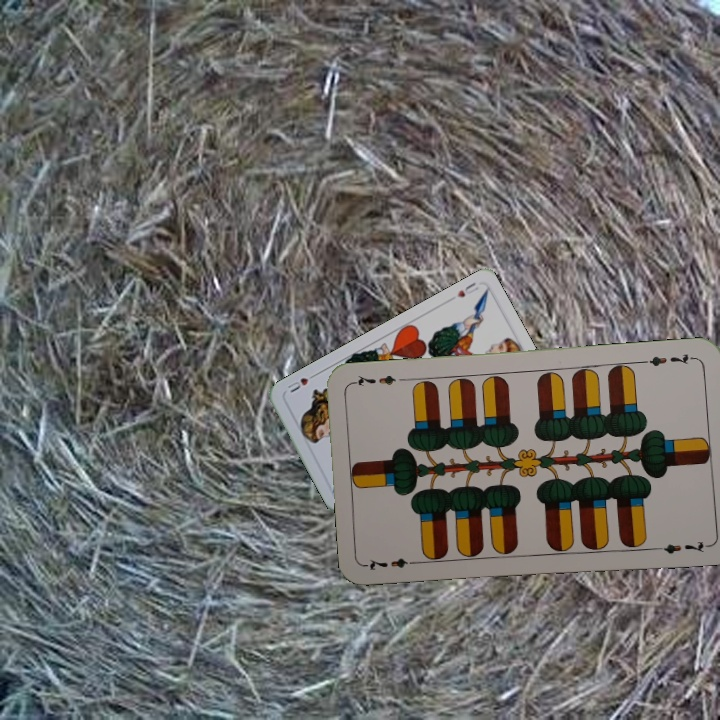E7: (639, 349, 699, 369), (363, 554, 422, 573)
HU: (453, 278, 481, 300)
